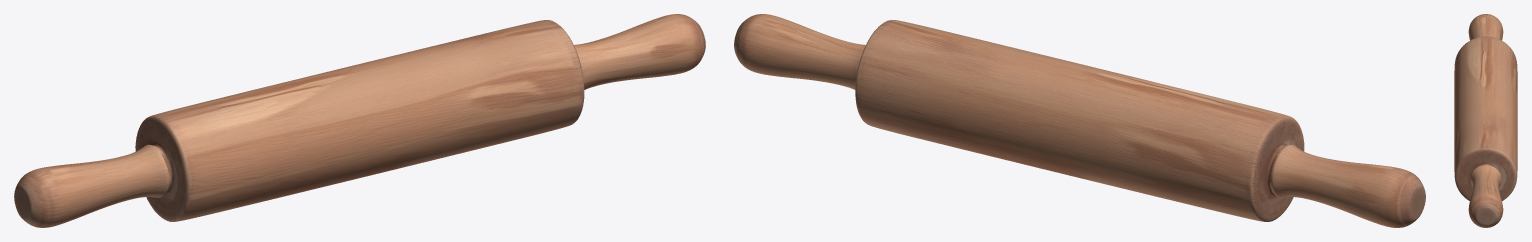
File: accessories_set_5_item_13.glb
3 views of the same model, side by side, from view 1: azimuth 30°, elevation 25°; view 2: azimuth 150°, elevation 25°; view 3: azimuth 270°, elevation 25° (orthographic). The views are drawn at different scales.
Size of the model in its own units: 1.9 by 0.2711 by 0.2663.
1 material, 1 textured.
